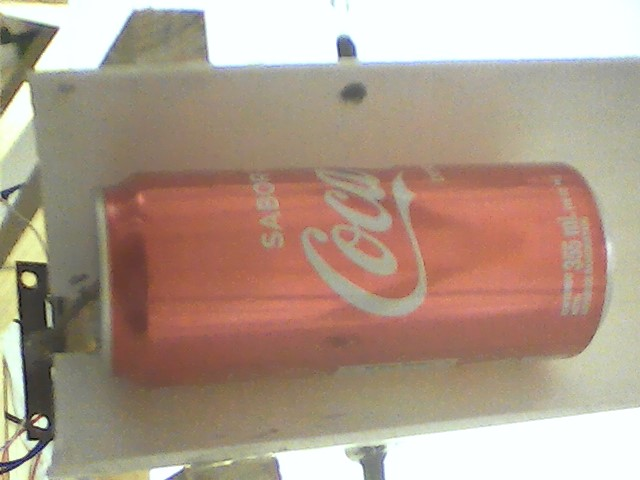lata: (86, 162, 618, 391)
